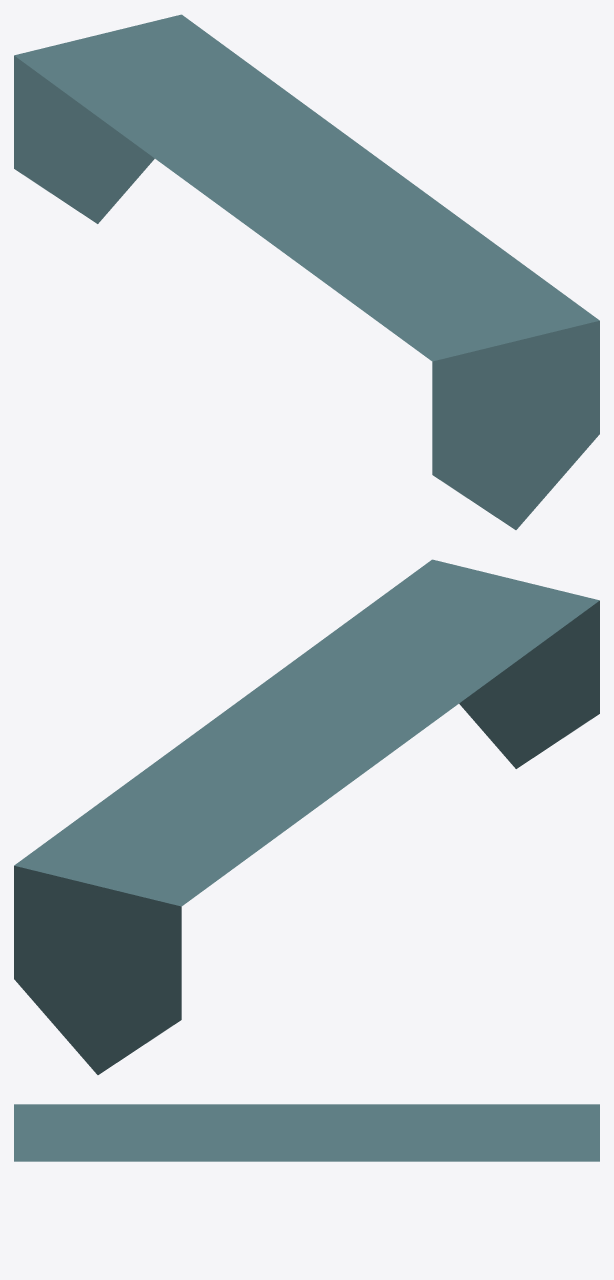
The model's file is MR_TableRunner.fbx.
3 views of the same model, one above another, from view 1: azimuth 30°, elevation 25°; view 2: azimuth 150°, elevation 25°; view 3: azimuth 270°, elevation 25° (orthographic). The views are drawn at different scales.
Visible parts, largest first — view 1: MR_TableRunner; view 2: MR_TableRunner; view 3: MR_TableRunner.
Boxes of the visible parts, box(x1,y1,x2,y2) form: MR_TableRunner: box(14, 14, 599, 529); MR_TableRunner: box(14, 559, 599, 1074); MR_TableRunner: box(14, 1104, 599, 1161).
Bounding box in the file's own units: 79.26 × 85.54 × 342.
